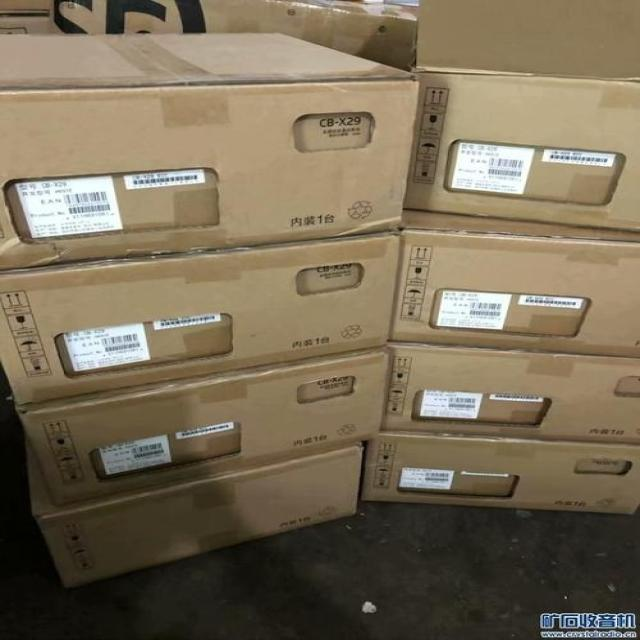box: (0, 34, 423, 273), (0, 232, 402, 407), (14, 349, 385, 506), (406, 0, 639, 234), (25, 438, 364, 586), (391, 205, 639, 361), (381, 340, 639, 443), (46, 1, 419, 72), (360, 431, 639, 515), (0, 1, 53, 35)
